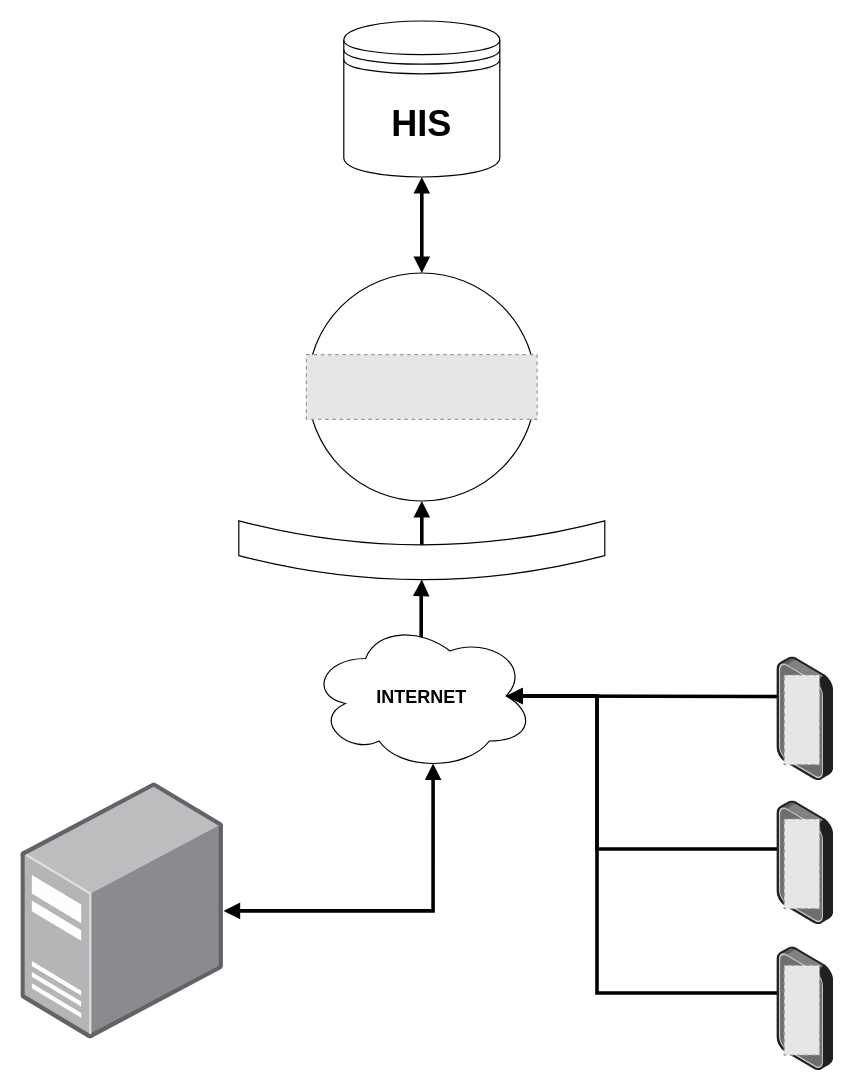
The diagram is 854 pixels wide and 1092 high, and some of its shapes have lost their labels. Grey dashed boxes stand in for pictures. Each missing label, with the centre of its shape:
"API" belongs at [421,550].
"SERVIDOR WEB" belongs at [121,910].
